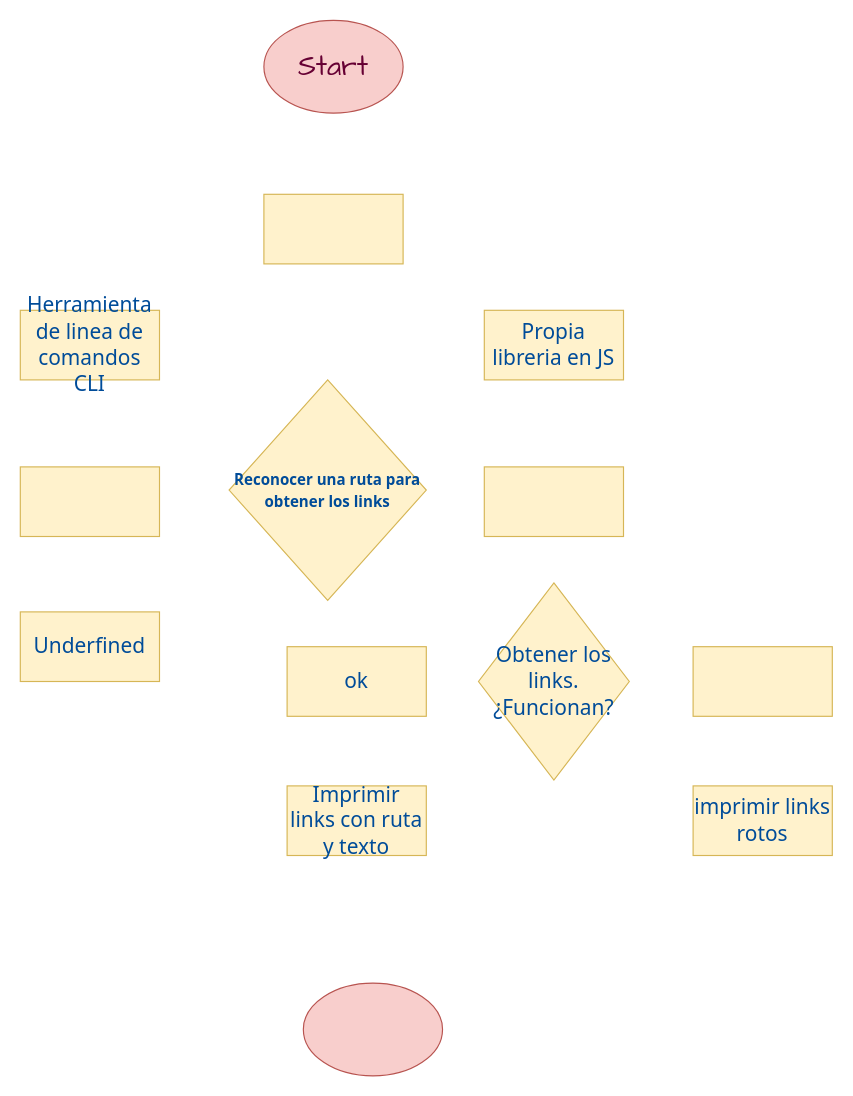
The diagram is 853 pixels wide and 1096 high, and some of its shapes have lost their labels. The shapes that lost their labels are listed below. From the top down, each one's centre as x and y in pixels, then its label:
At (333,228): "Realizar".
At (89,501): "No es un archivo MD".
At (553,501): "Si es un MD".
At (762,681): "juntar links".
At (372,1029): "End".
